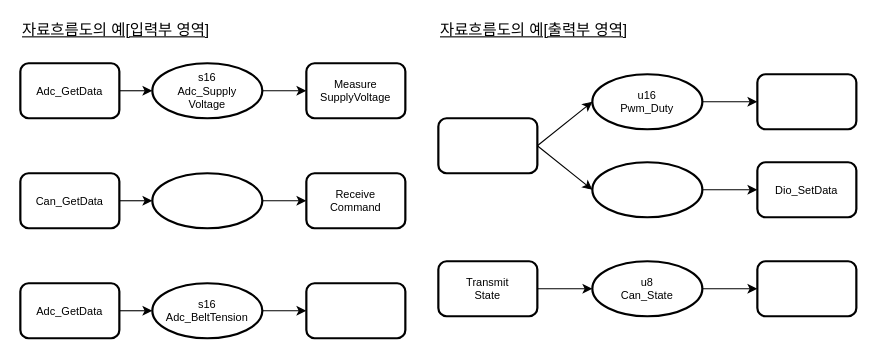
This 876x358 diagram has some shape labels left out. Each missing label, with the box of its shape:
Can_SetData: (756, 260, 857, 317)
DriveMotor: (437, 117, 538, 174)
Measure BeltTension: (305, 282, 406, 339)
Pwm_SetData: (756, 73, 857, 130)
u8 Can_Data: (151, 172, 263, 229)
u8 Dio_Direction: (591, 161, 703, 218)
